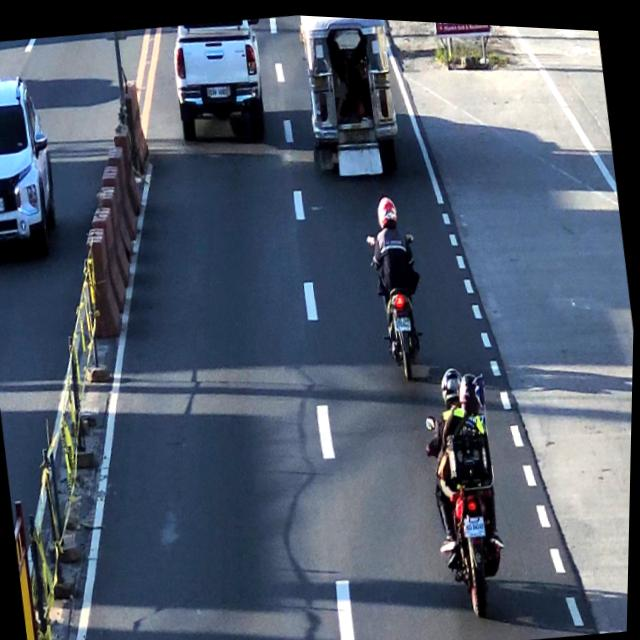Car: (168, 13, 272, 146)
Jeep: (291, 12, 409, 177)
License-Plate: (464, 509, 491, 537), (207, 78, 233, 100), (392, 310, 416, 330)
Motorcycle: (425, 358, 519, 618), (361, 189, 433, 378)
